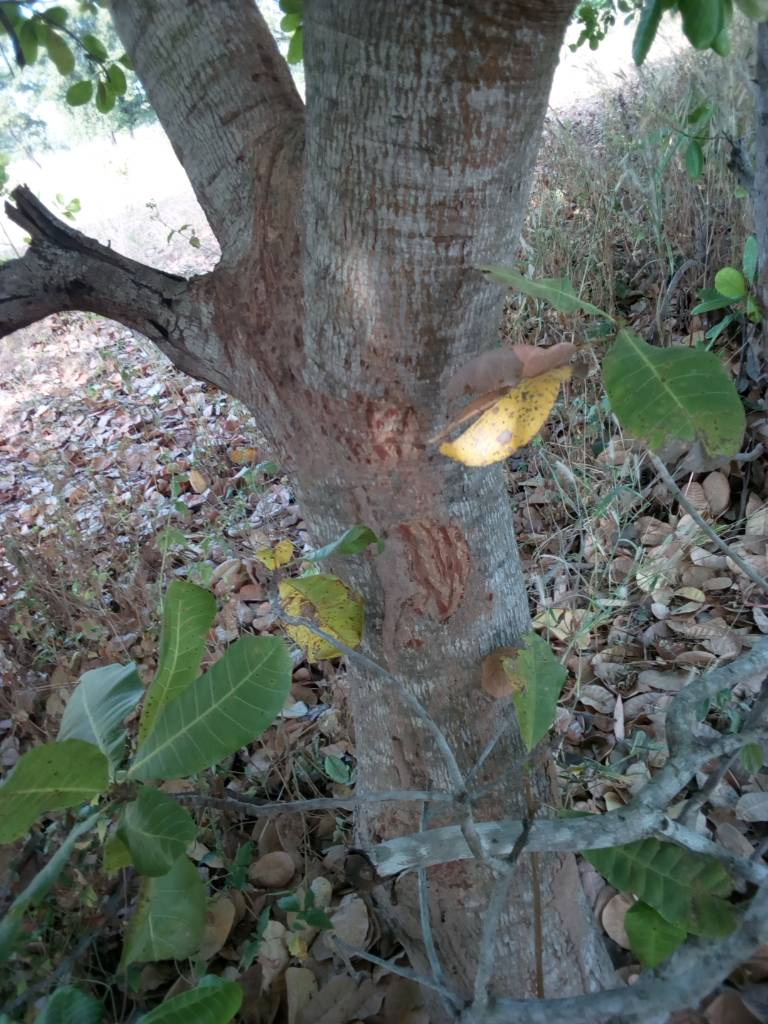Termites: (352, 410, 477, 697), (244, 207, 329, 472)
